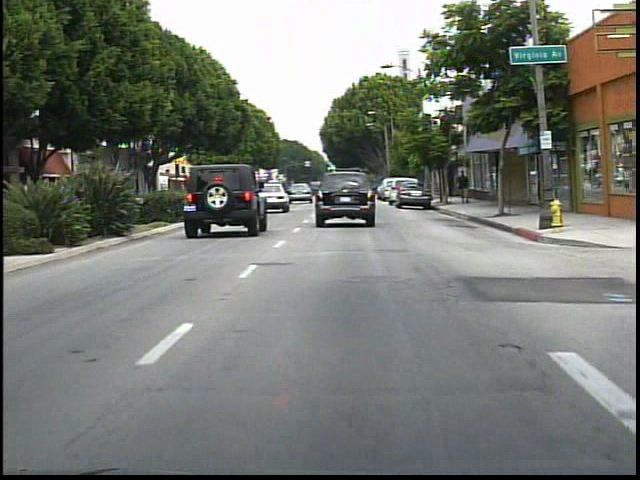person: (453, 169, 473, 209)
